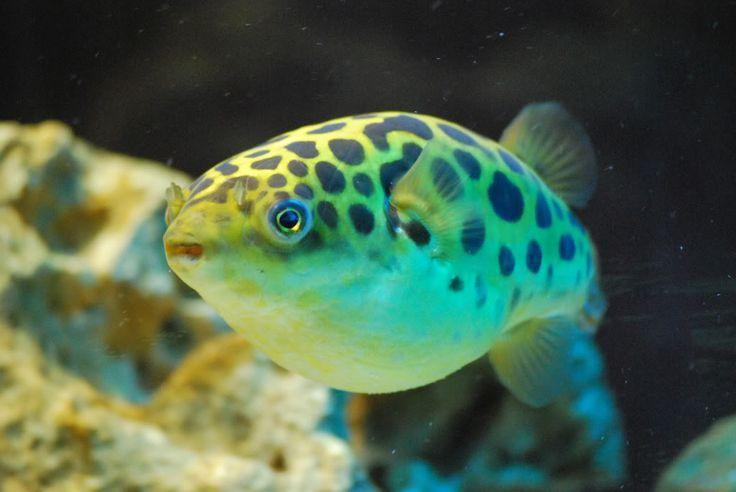Green Spotted Puffer: (162, 98, 611, 411)
